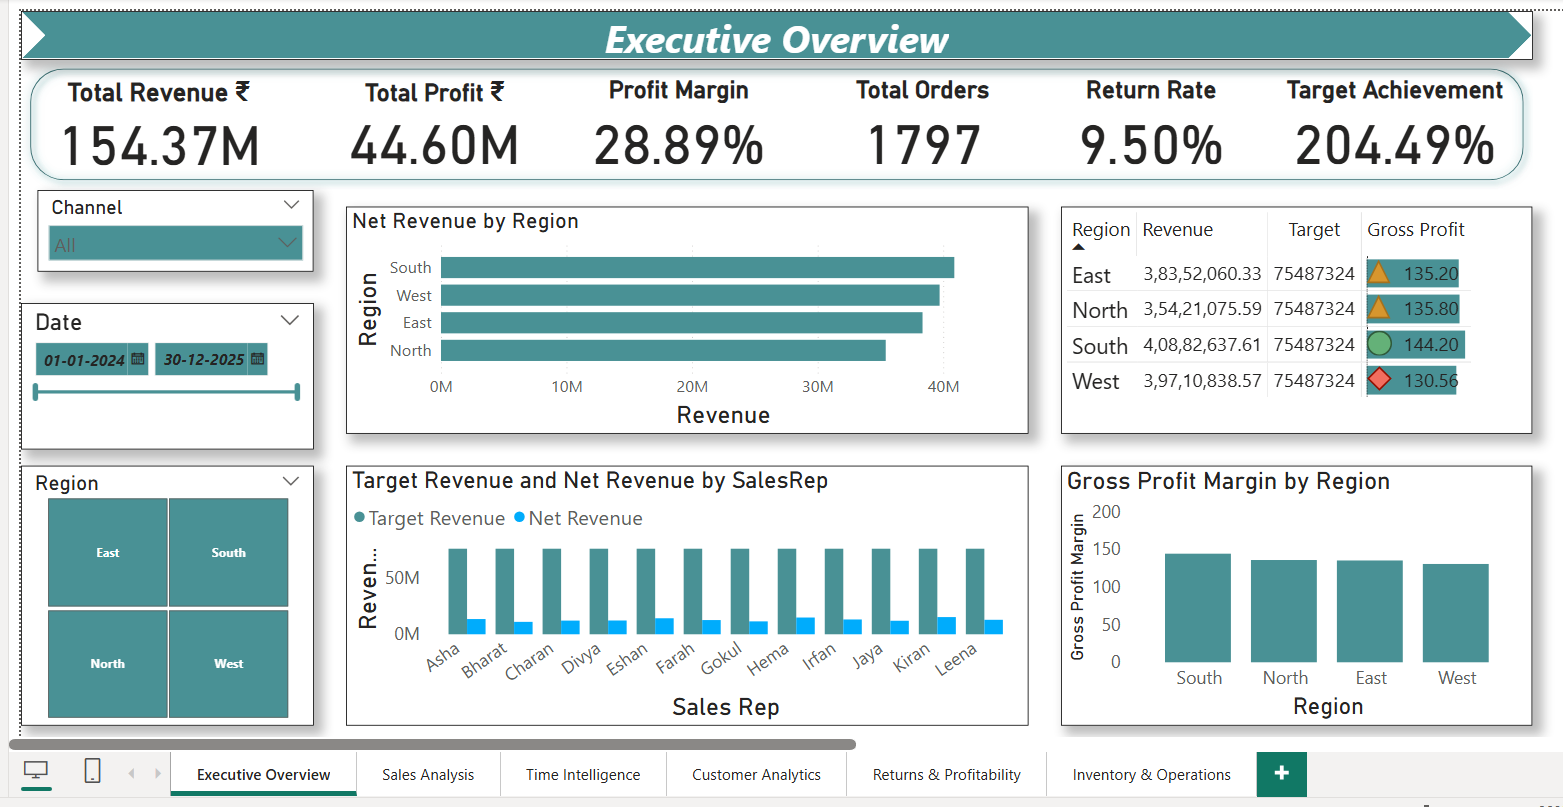

Layout of this report page (visuals, bound fields, positions):
{"tool":"powerbi","page":{"name":"Executive Overview","canvas":[3500,720],"ordinal":0},"visuals":[{"type":"card","title":"Total Revenue ₹","fields":{"Values":["Orders_Raw.Total Net Revenue"]},"box":[0,64,272,96],"z":0},{"type":"card","title":"Total Profit ₹","fields":{"Values":["Sum(Orders_Raw.Gross Profit)"]},"box":[300,63.8,240,96.2],"z":1000},{"type":"card","title":"Profit Margin","fields":{"Values":["Orders_Raw.Gross profit margin(%)"]},"box":[588.8,63.8,240,96.2],"z":2000},{"type":"card","title":"Total Orders","fields":{"Values":["Count(Orders_Raw.OrderID)"]},"box":[942.5,63.8,240,96.2],"z":3000},{"type":"clusteredBarChart","title":"Net Revenue by Region","fields":{"Category":["Orders_Raw.Region"],"Y":["Orders_Raw.Total Net Revenue"]},"box":[320,192,672,224],"z":4000},{"type":"clusteredColumnChart","fields":{"Category":["Orders_Raw.Region"],"Y":["Sum(Orders_Raw.Gross Profit Margin)"]},"box":[1024,448,464,256],"z":5000},{"type":"clusteredColumnChart","fields":{"Category":["SalesReps.SalesRep"],"Y":["Sum(Targets_Raw.SalesTarget_INR)","Orders_Raw.Total Net Revenue"]},"box":[320,448,672,256],"z":6000},{"type":"pivotTable","fields":{"Values":["Orders_Raw.Total Net Revenue","Orders_Raw.sum target","Targets_Raw.diff"],"Rows":["Targets_Raw.Region"]},"box":[1023.8,192.5,475,223.8],"z":7000},{"type":"slicer","fields":{"Values":["Orders_Raw.OrderDate"]},"box":[0,288,288,144],"z":8000},{"type":"slicer","fields":{"Values":["Orders_Raw.Region"]},"box":[0,448,288,256],"z":9000},{"type":"slicer","fields":{"Values":["Orders_Raw.Channel"]},"box":[16,176,272,80],"z":10000},{"type":"card","title":"Return Rate","fields":{"Values":["Orders_Raw.Return_rate"]},"box":[1222.5,63.8,240,96.2],"z":12000},{"type":"shape","box":[0,47.5,1487.5,128.8],"z":13000},{"type":"shape","box":[0,0,1488,48],"z":14000}]}

Visuals, with their boxes on the page's 3500x720 design canvas (x1, y1, x2, y2). These are canvas units, not pixel positions in the 1563x807 screenshot, which may show the page scaled, cropped or inside an application window:
"Total Revenue ₹" card: box(0, 64, 272, 160)
"Total Profit ₹" card: box(300, 64, 540, 160)
"Profit Margin" card: box(589, 64, 829, 160)
"Total Orders" card: box(942, 64, 1182, 160)
"Net Revenue by Region" clusteredBarChart: box(320, 192, 992, 416)
clusteredColumnChart - Orders_Raw.Region x Sum(Orders_Raw.Gross Profit Margin): box(1024, 448, 1488, 704)
clusteredColumnChart - SalesReps.SalesRep x Sum(Targets_Raw.SalesTarget_INR): box(320, 448, 992, 704)
pivotTable - Orders_Raw.Total Net Revenue x Orders_Raw.sum target: box(1024, 192, 1499, 416)
slicer - Orders_Raw.OrderDate: box(0, 288, 288, 432)
slicer - Orders_Raw.Region: box(0, 448, 288, 704)
slicer - Orders_Raw.Channel: box(16, 176, 288, 256)
"Return Rate" card: box(1222, 64, 1462, 160)
shape: box(0, 48, 1488, 176)
shape: box(0, 0, 1488, 48)
